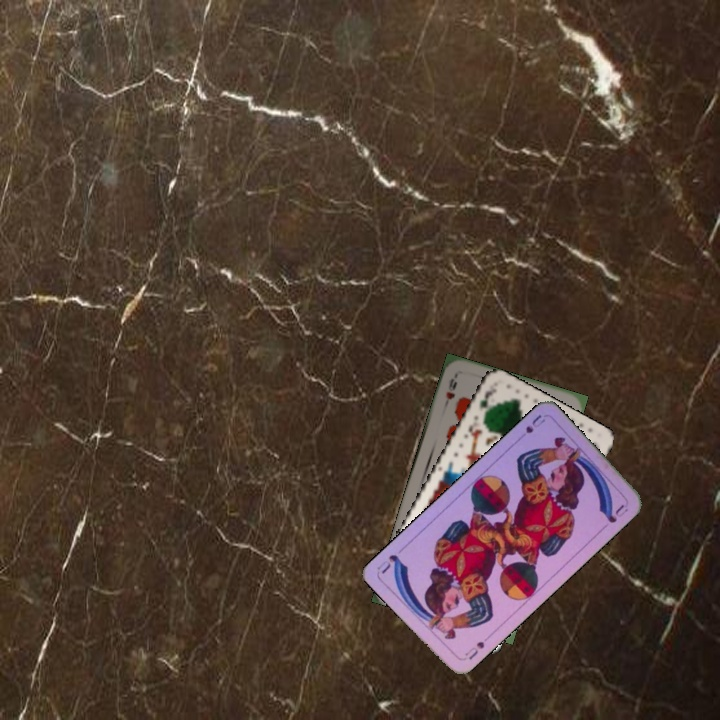GK: (475, 385, 500, 420)
H9: (442, 371, 460, 402)
SU: (513, 410, 548, 444), (461, 637, 487, 662)
